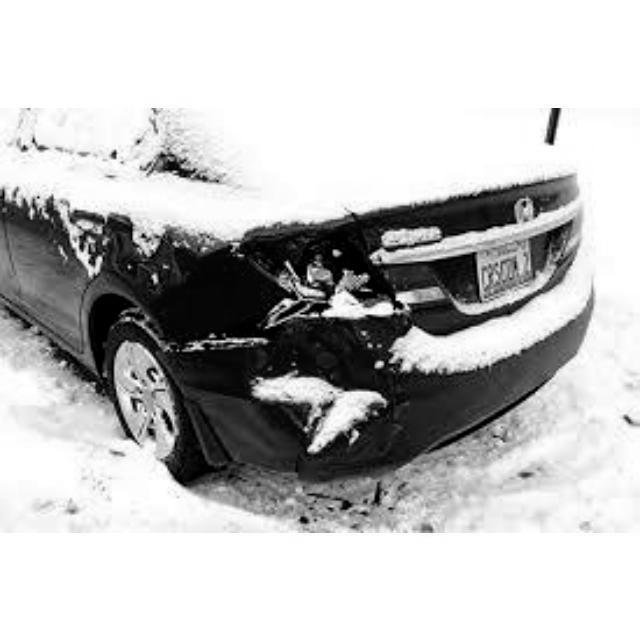rear-bumper-dent: (182, 308, 440, 463)
